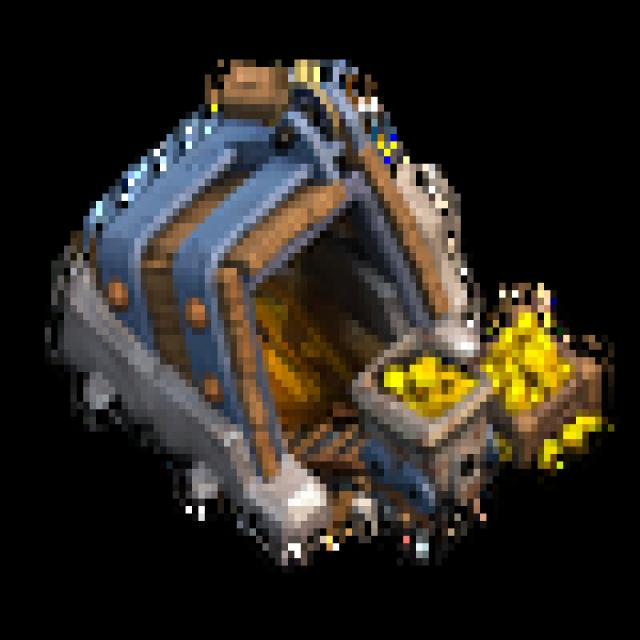gold_mine: (38, 58, 626, 592)
